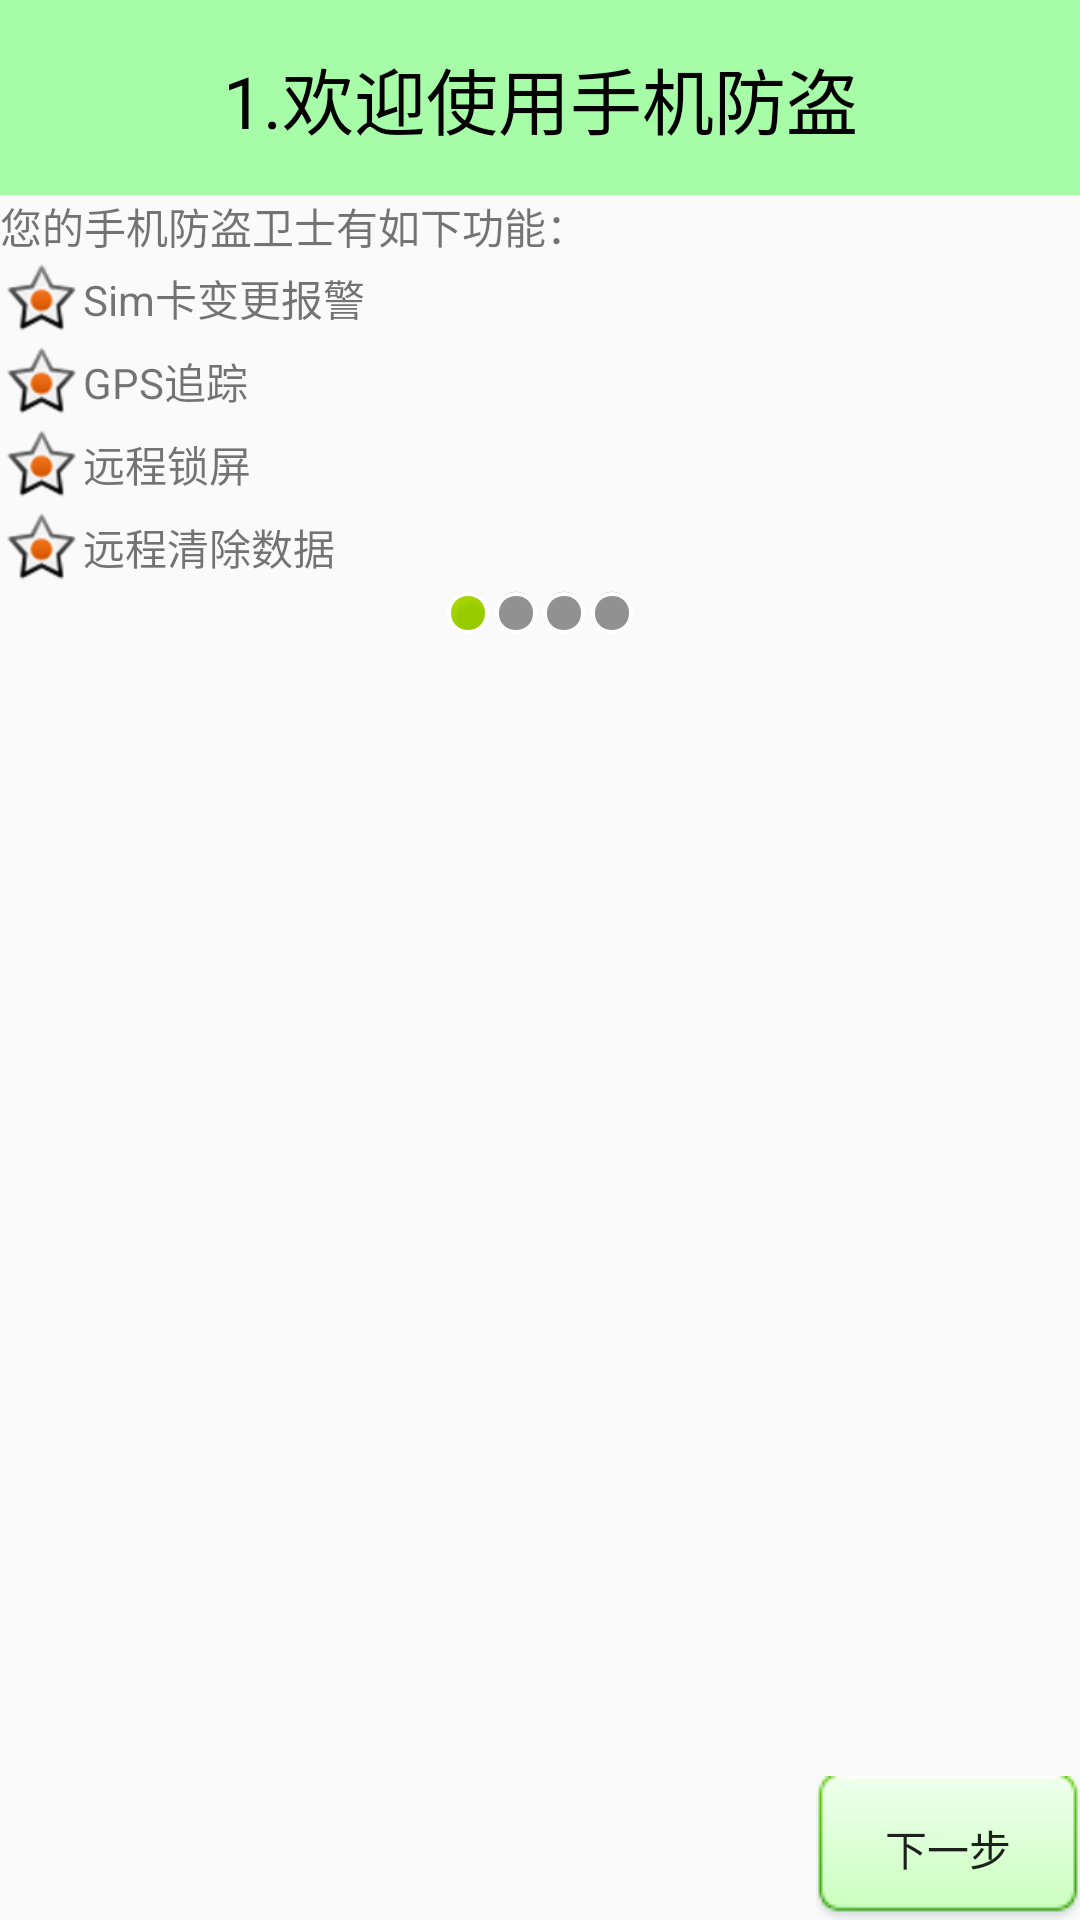

Icon click points for this 1080x1920 phone screenshot, format point (x, y):
presence invisible: point (516, 611), point (564, 611), point (612, 611)
presence online: point (468, 613)
